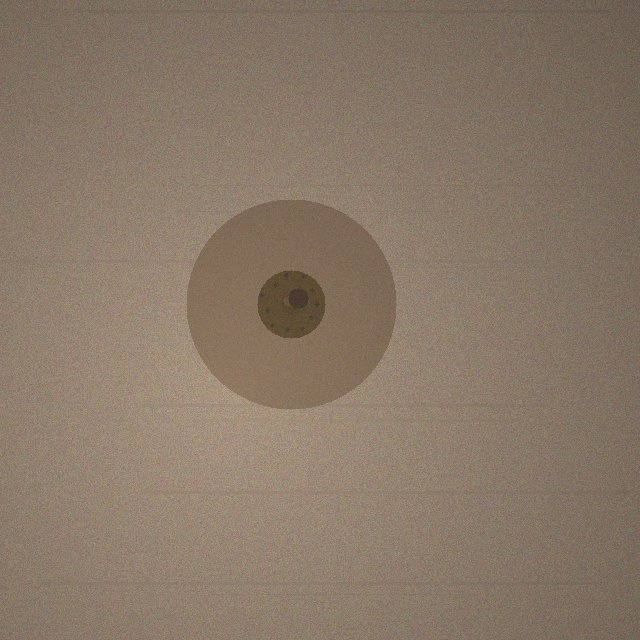cold_weld: (186, 199, 396, 409)
